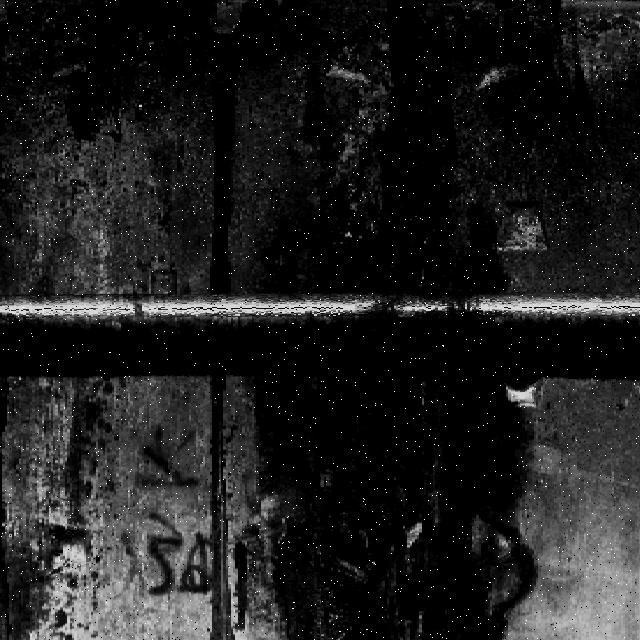leakage: (243, 374, 543, 639), (265, 0, 518, 294), (197, 0, 249, 291), (195, 376, 237, 636)
